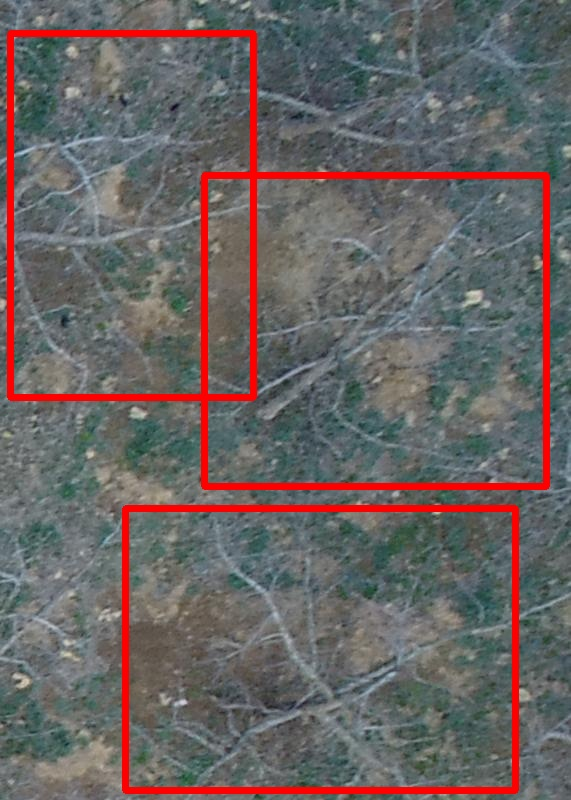apple: (125, 508, 515, 790), (204, 175, 546, 486), (10, 33, 253, 397)
